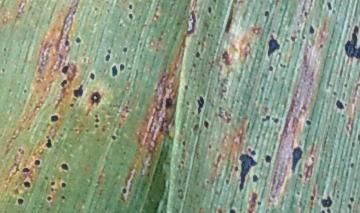tarspot: (238, 154, 257, 191), (344, 25, 360, 58), (290, 145, 303, 173), (267, 35, 280, 56), (73, 84, 84, 97), (90, 92, 101, 104), (163, 97, 173, 110), (335, 98, 345, 110), (58, 162, 71, 171), (197, 97, 204, 113), (22, 180, 33, 189), (321, 197, 332, 206), (260, 114, 271, 123), (111, 64, 118, 77), (49, 114, 60, 122), (58, 79, 69, 87), (60, 65, 69, 74), (87, 72, 96, 81), (266, 63, 275, 72), (62, 39, 72, 47), (45, 138, 52, 149), (16, 197, 25, 205), (202, 119, 210, 128), (262, 9, 270, 18), (326, 1, 333, 11), (251, 174, 259, 182), (271, 116, 279, 124), (304, 118, 312, 126), (290, 35, 298, 43), (278, 62, 287, 69), (21, 167, 31, 173), (75, 36, 82, 44), (265, 155, 272, 163), (46, 194, 53, 202), (194, 51, 201, 59), (342, 81, 349, 89), (17, 147, 25, 154), (309, 25, 315, 34), (181, 138, 187, 147), (34, 160, 41, 167), (127, 13, 134, 20), (122, 46, 129, 53), (204, 178, 211, 185), (119, 63, 125, 71), (104, 55, 112, 61), (111, 133, 117, 141), (207, 6, 213, 14), (349, 160, 355, 168), (332, 89, 338, 97), (183, 83, 189, 91), (1, 66, 7, 74), (206, 32, 214, 38), (229, 208, 238, 213), (311, 154, 316, 163), (234, 165, 240, 172), (251, 149, 257, 156), (61, 181, 67, 188), (309, 194, 315, 201), (298, 172, 304, 179), (1, 46, 8, 52), (300, 34, 307, 40), (348, 202, 352, 211), (106, 48, 112, 54), (93, 123, 99, 129), (50, 180, 56, 186), (121, 187, 127, 193), (256, 200, 262, 206), (224, 178, 230, 184), (207, 143, 213, 149), (318, 43, 324, 49), (185, 100, 191, 106), (22, 88, 28, 94), (192, 61, 197, 68), (93, 119, 101, 123), (356, 131, 360, 139), (128, 4, 133, 10), (326, 208, 332, 213), (94, 113, 99, 119), (69, 102, 75, 107), (296, 190, 301, 196), (197, 40, 202, 46), (319, 209, 326, 213), (349, 198, 354, 203), (61, 195, 66, 200), (50, 186, 54, 192), (304, 11, 308, 17)
